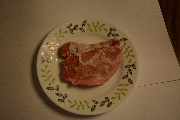beef: (57, 38, 122, 86)
